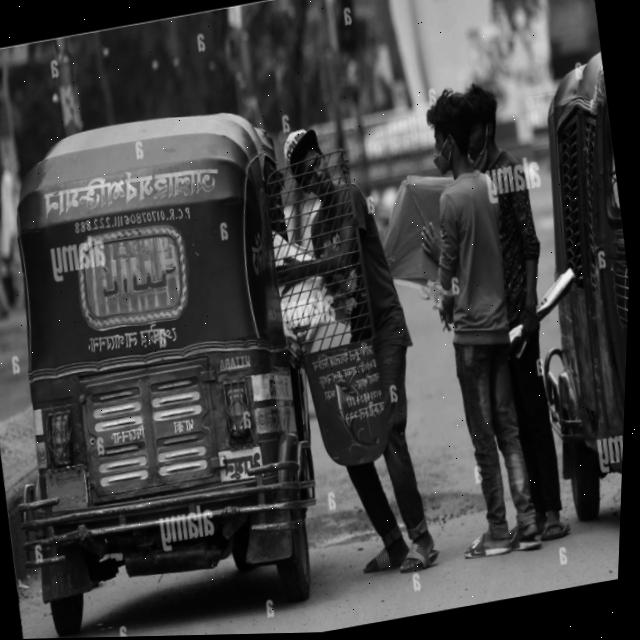cng: (0, 56, 401, 640)
